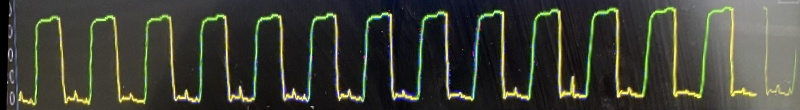hydrop_pressure: (6, 0, 780, 110)
